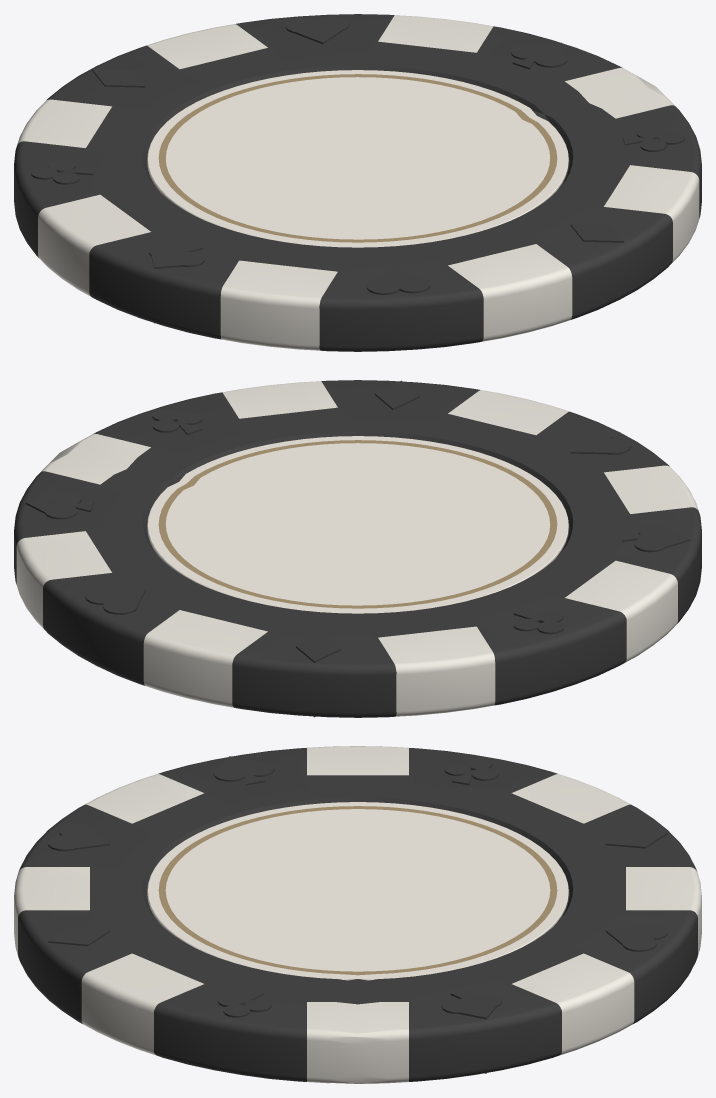
File: chip.glb
The picture shows the model from 3 angles, top to bottom: view 1: azimuth 30°, elevation 25°; view 2: azimuth 150°, elevation 25°; view 3: azimuth 270°, elevation 25°; orthographic projection.
Visible parts, largest first — view 1: body, label, inserts, ring; view 2: body, label, inserts, ring; view 3: body, label, inserts, ring.
Boxes of the visible parts, <box> form: body: <box>14,14,701,351</box>; label: <box>147,70,568,247</box>; inserts: <box>17,15,699,350</box>; ring: <box>158,74,557,242</box>; body: <box>14,380,701,717</box>; label: <box>147,436,568,613</box>; inserts: <box>16,381,698,716</box>; ring: <box>158,440,557,608</box>; body: <box>18,748,697,1081</box>; label: <box>147,802,568,980</box>; inserts: <box>14,746,701,1083</box>; ring: <box>158,806,557,975</box>.
Bounding box in the file's own units: 0.039 × 0.00351 × 0.039.
